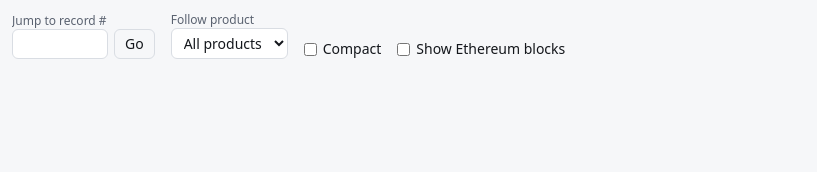
Test: ChainControls › rejects abc with a helpful message
In the field labelled "Jump to record #": (60, 44) [12, 29, 108, 59], type "abc"
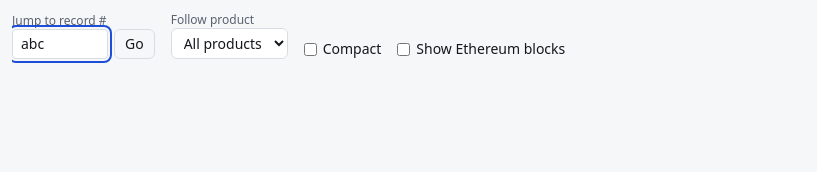
Click the button "Go": click(134, 44) [114, 29, 155, 59]
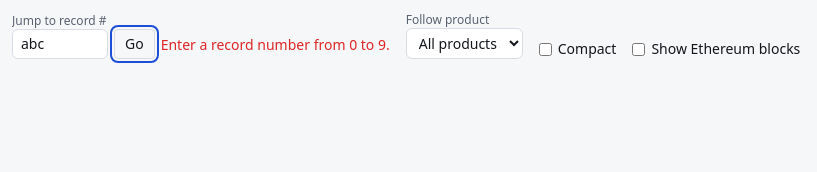
Result: the message shows "0 to 9" at [161, 35, 390, 54]
